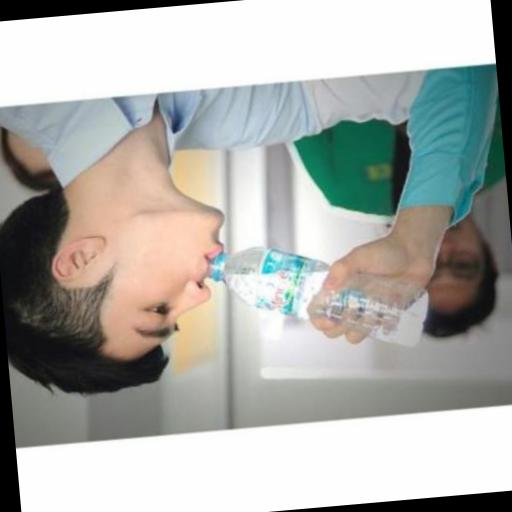Coca: (192, 222, 446, 372)
